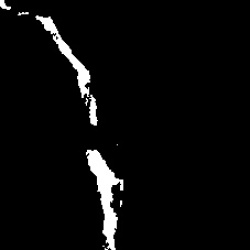crack: (36, 14, 98, 126), (86, 149, 122, 249), (1, 2, 13, 10), (18, 11, 30, 15)
